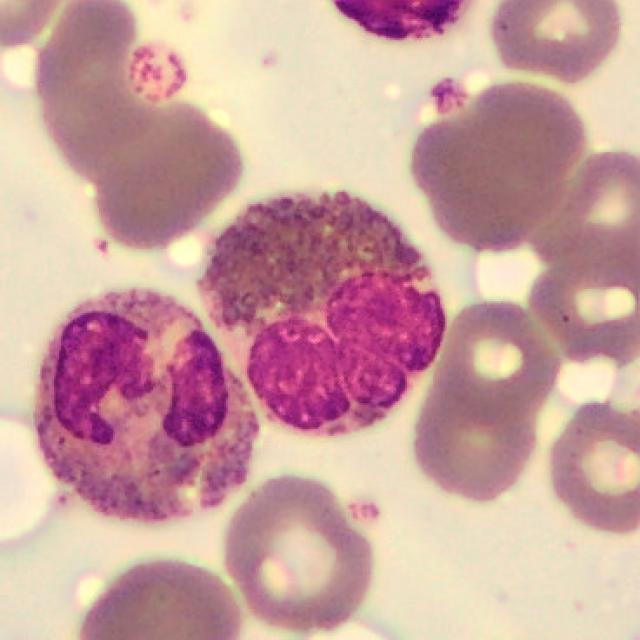Eosinofilo: (198, 186, 449, 440)
